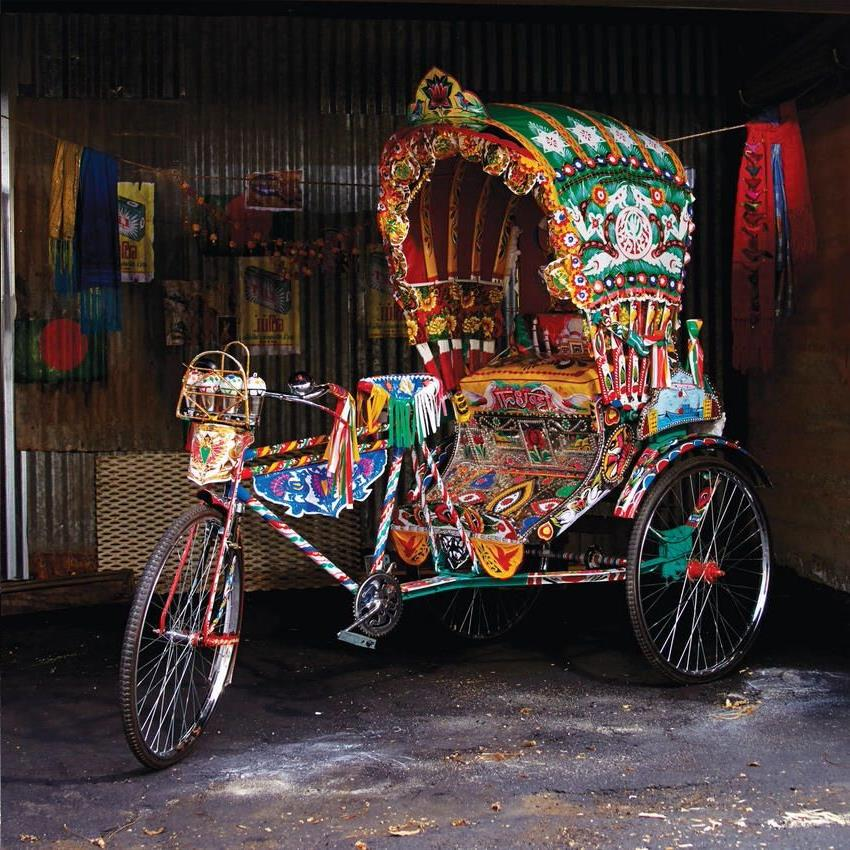Rickshaw: (129, 76, 761, 748)
